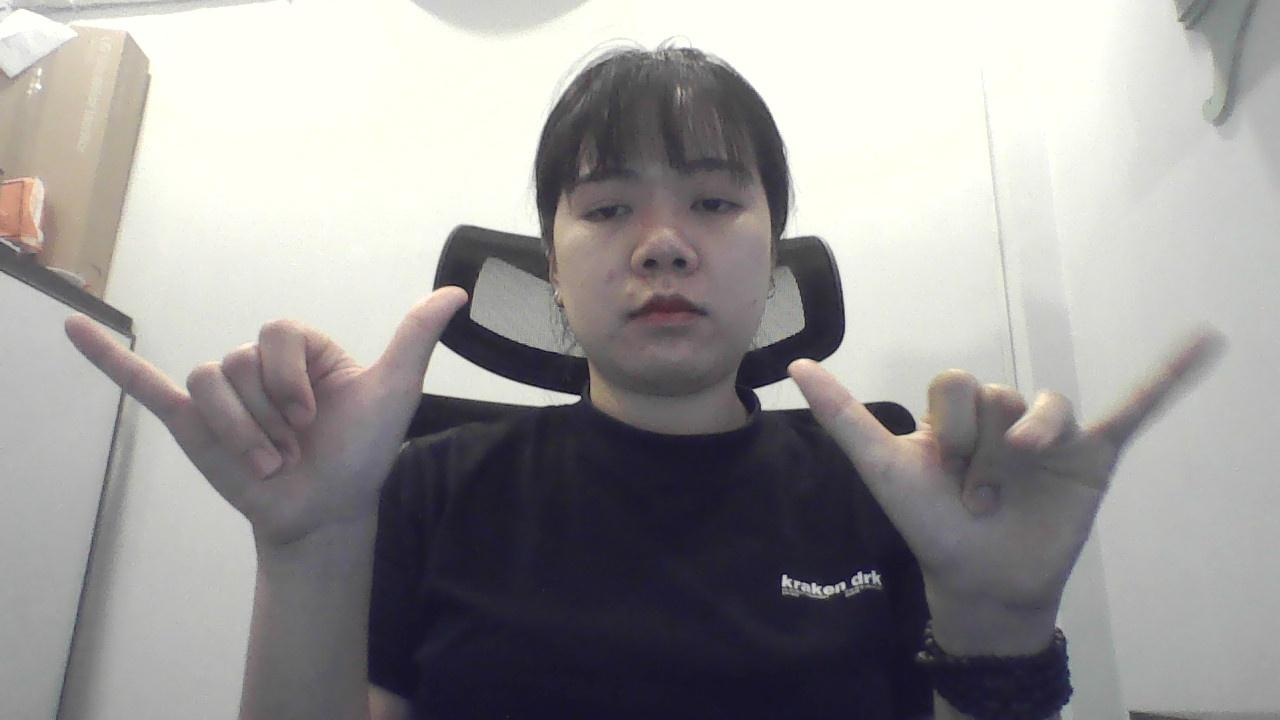Y: (775, 307, 1245, 609), (62, 277, 489, 552)
